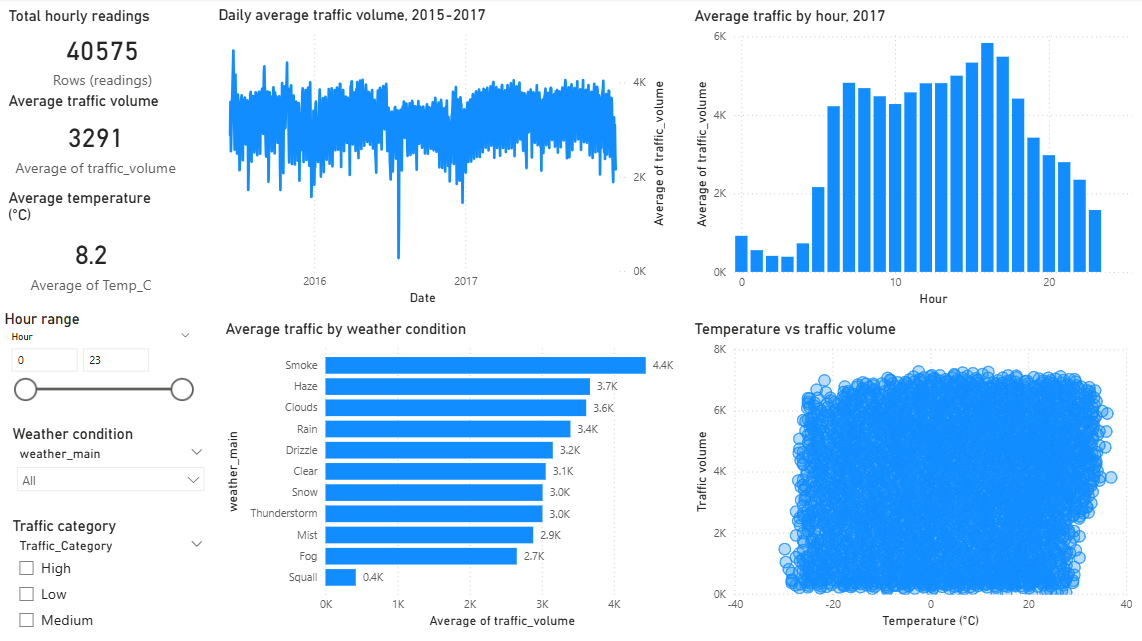

The dashboard page shown, as its layout file describes it:
{"tool":"powerbi","page":{"name":"Page 1","canvas":[1280,720],"ordinal":0},"visuals":[{"type":"card","title":"Total hourly readings","fields":{"Values":["CountNonNull(Metro_Interstate_Traffic_Volume.traffic_volume)"]},"box":[4.5,9.9,220.4,95.8],"z":0},{"type":"lineChart","title":"Daily average traffic volume, 2015-2017","fields":{"Category":["Metro_Interstate_Traffic_Volume.Date"],"Y2":["Avg(Metro_Interstate_Traffic_Volume.traffic_volume)"]},"box":[240.1,9.5,509.9,339.9],"z":1000},{"type":"clusteredColumnChart","title":"Average traffic by hour, 2017","fields":{"Y":["Avg(Metro_Interstate_Traffic_Volume.traffic_volume)"],"Category":["Metro_Interstate_Traffic_Volume.Hour"]},"box":[772.3,9.9,500.4,339.6],"z":2000},{"type":"clusteredBarChart","title":"Average traffic by weather condition","fields":{"Category":["Metro_Interstate_Traffic_Volume.weather_main"],"Y":["Avg(Metro_Interstate_Traffic_Volume.traffic_volume)"]},"box":[247.2,360.1,525.3,349.4],"z":3000},{"type":"scatterChart","title":"Temperature vs traffic volume","fields":{"X":["Metro_Interstate_Traffic_Volume.Temp_C"],"Y":["Metro_Interstate_Traffic_Volume.traffic_volume"]},"box":[772.3,360.4,500.4,349.6],"z":4000},{"type":"card","title":"Average traffic volume","fields":{"Values":["Avg(Metro_Interstate_Traffic_Volume.traffic_volume)"]},"box":[4.5,105.7,205.1,102.1],"z":5000},{"type":"card","title":"Average temperature (°C)","fields":{"Values":["Avg(Metro_Interstate_Traffic_Volume.Temp_C)"]},"box":[4.5,214.1,195.1,126.5],"z":6000},{"type":"slicer","title":"Hour range","fields":{"Values":["Metro_Interstate_Traffic_Volume.Hour"]},"box":[0,349.6,224.9,117.4],"z":7000},{"type":"slicer","title":"Weather condition","fields":{"Values":["Metro_Interstate_Traffic_Volume.weather_main"]},"box":[9,477.9,230.3,79.5],"z":8000},{"type":"slicer","title":"Traffic category","fields":{"Values":["Metro_Interstate_Traffic_Volume.Traffic_Category"]},"box":[9,580.8,230.3,139.1],"z":9000}]}

Visuals, with their boxes in screenshot pixels (x1, y1, x2, y2), scaled from the page's 1280x720 canvas onto the 1142x641 screenshot:
"Total hourly readings" card: [4,9,201,94]
"Daily average traffic volume, 2015-2017" lineChart: [214,8,669,311]
"Average traffic by hour, 2017" clusteredColumnChart: [689,9,1135,311]
"Average traffic by weather condition" clusteredBarChart: [221,321,689,632]
"Temperature vs traffic volume" scatterChart: [689,321,1135,632]
"Average traffic volume" card: [4,94,187,185]
"Average temperature (°C)" card: [4,191,178,303]
"Hour range" slicer: [0,311,201,416]
"Weather condition" slicer: [8,425,214,496]
"Traffic category" slicer: [8,517,214,640]
